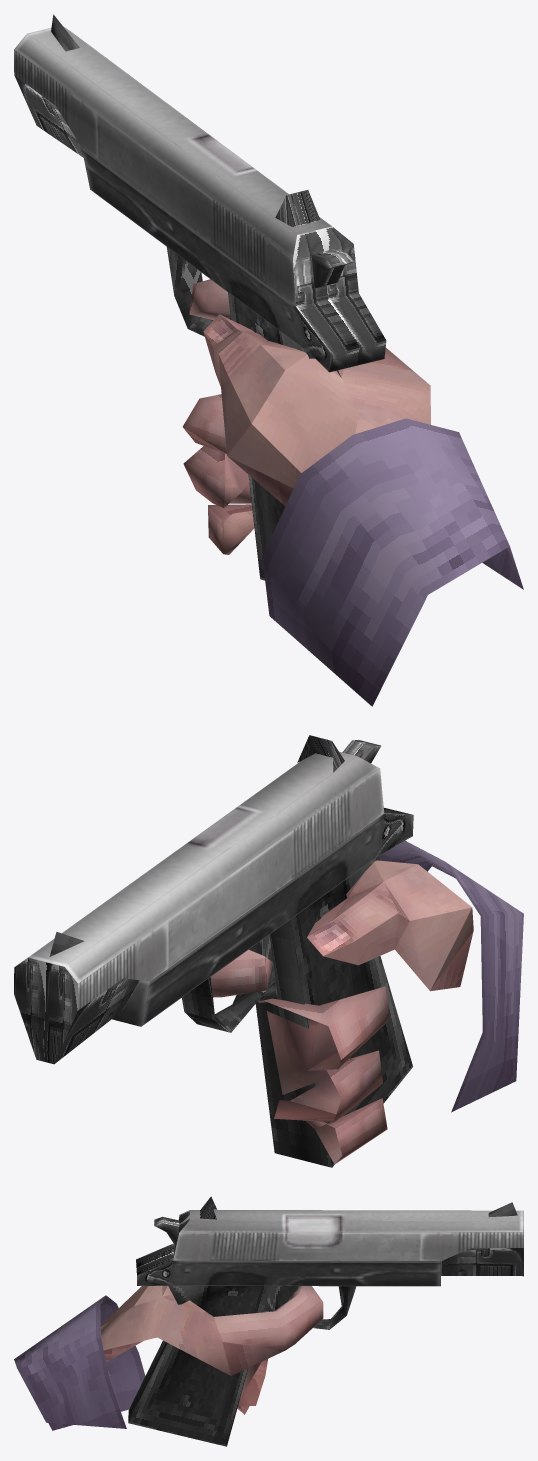
3 views of the same model, one above another, from view 1: azimuth 30°, elevation 25°; view 2: azimuth 150°, elevation 25°; view 3: azimuth 270°, elevation 25° (orthographic). The views are drawn at different scales.
Visible parts, largest first — view 1: Pistol_Grip_Cube.008; view 2: Pistol_Grip_Cube.008; view 3: Pistol_Grip_Cube.008.
Part boxes in pixels (box(x1,y1,x2,y2)): Pistol_Grip_Cube.008: box(14, 14, 523, 706); Pistol_Grip_Cube.008: box(14, 735, 523, 1167); Pistol_Grip_Cube.008: box(14, 1196, 523, 1446).
Bounding box in the file's own units: 95.56 × 193 × 359.
Materials: 20 (20 with a texture image).
